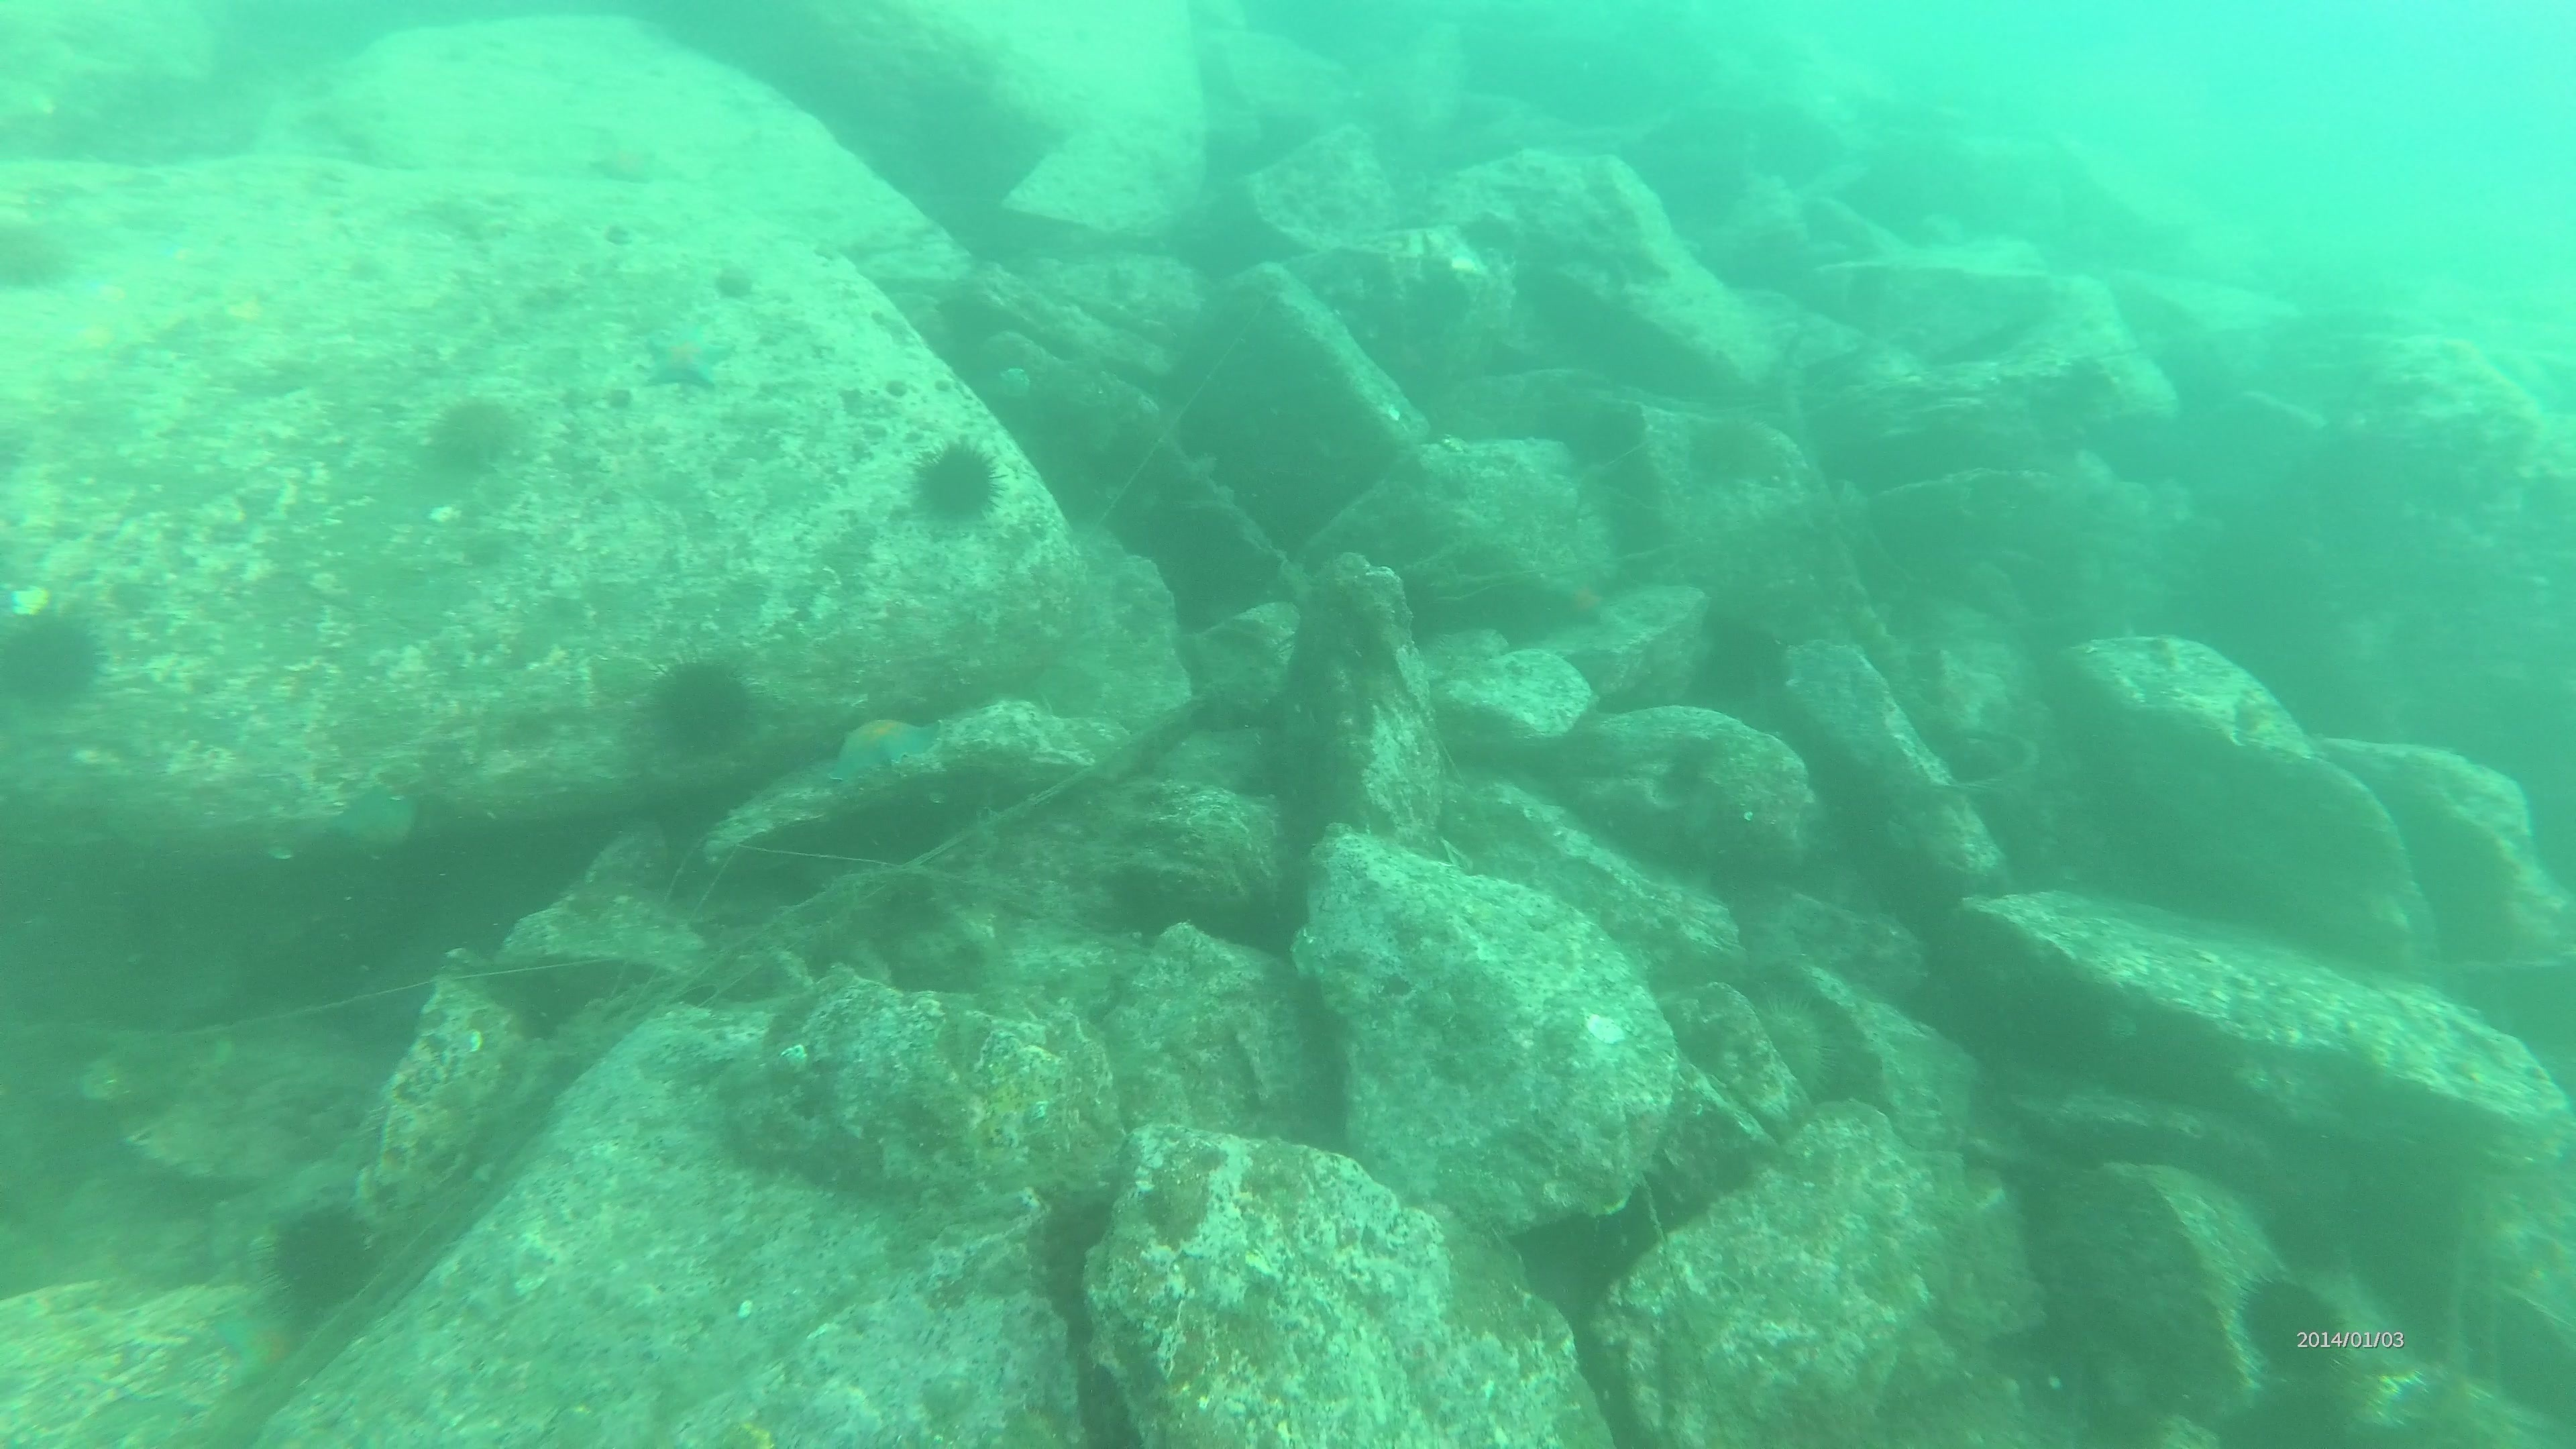echinus: (258, 1196, 384, 1322), (639, 649, 763, 766), (2235, 1269, 2353, 1385), (2, 598, 111, 718), (902, 433, 1010, 536), (419, 389, 529, 487), (0, 207, 78, 303)
starfish: (819, 701, 948, 793), (200, 1292, 304, 1389), (633, 317, 736, 398), (326, 771, 421, 853)
